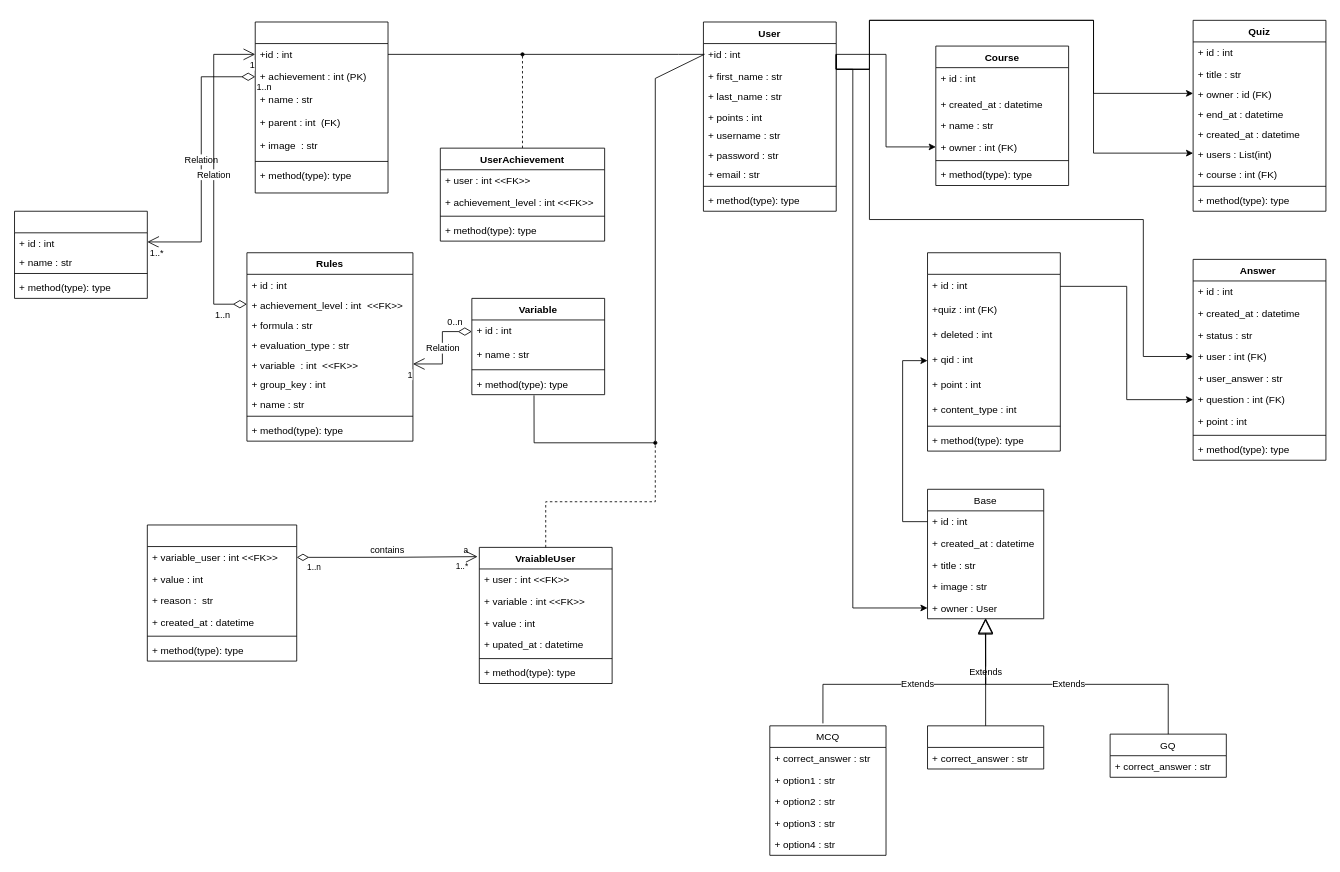
The diagram is 1340 pixels wide and 872 high, and some of its shapes have lost their labels. Each missing label, with the box of its shape:
Achievement: (14, 210, 147, 298)
AchievementLevel: (254, 21, 388, 193)
Question: (927, 252, 1060, 451)
VariableUserDetials: (146, 524, 297, 661)
YNQ: (927, 725, 1044, 769)
